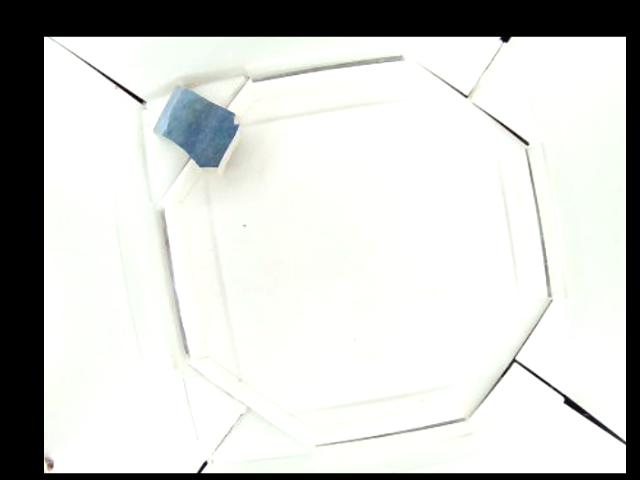China: (154, 85, 241, 172)
